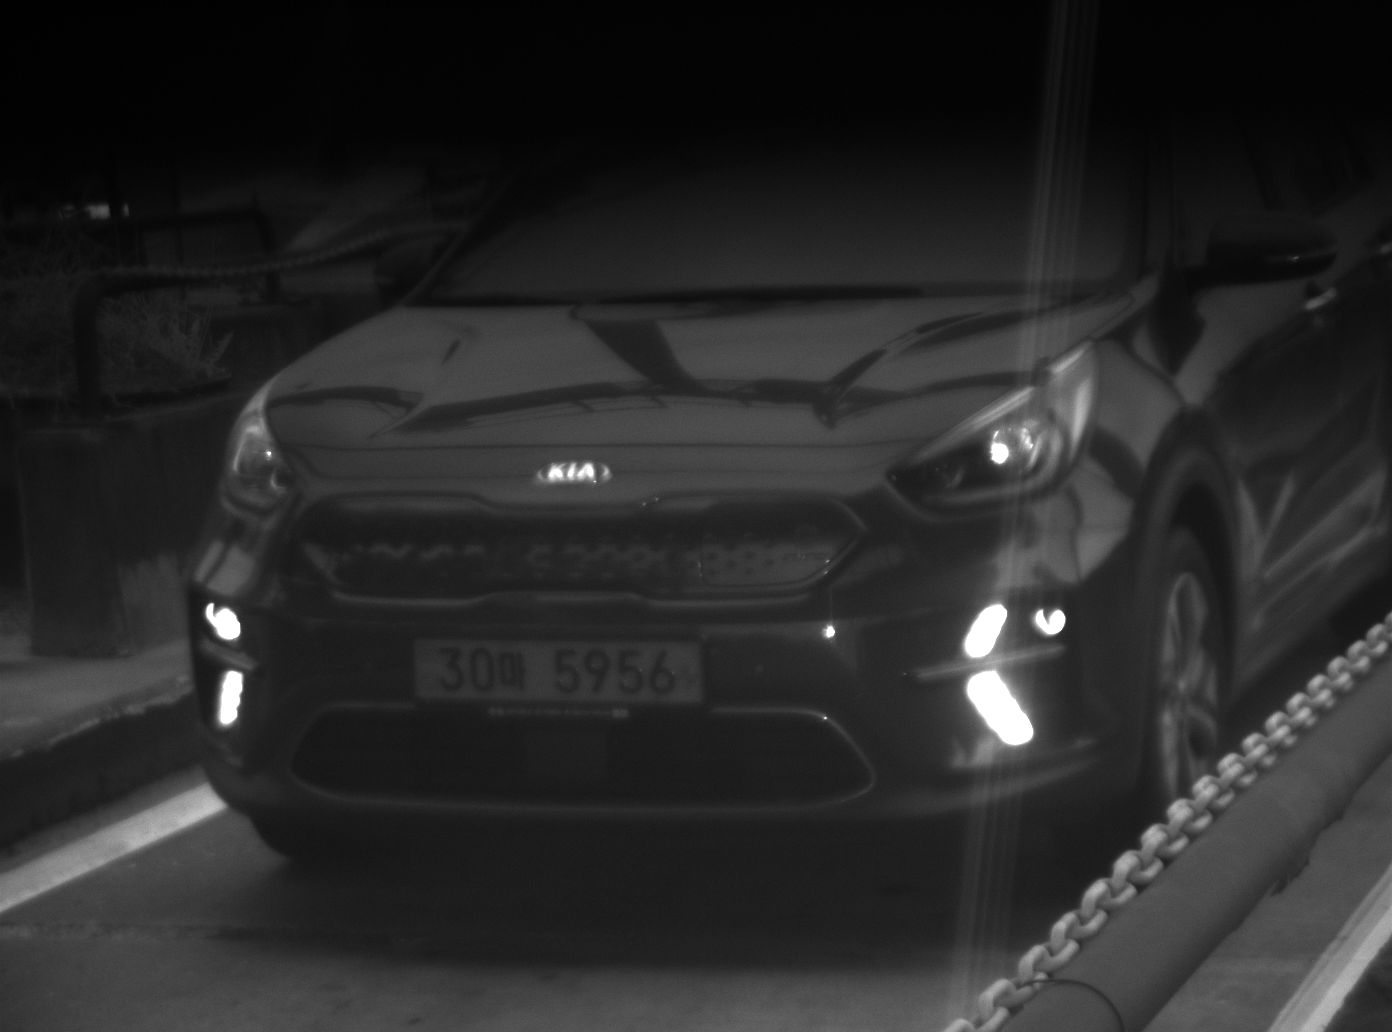car: (184, 193, 1392, 880)
plate: (406, 632, 707, 711)
